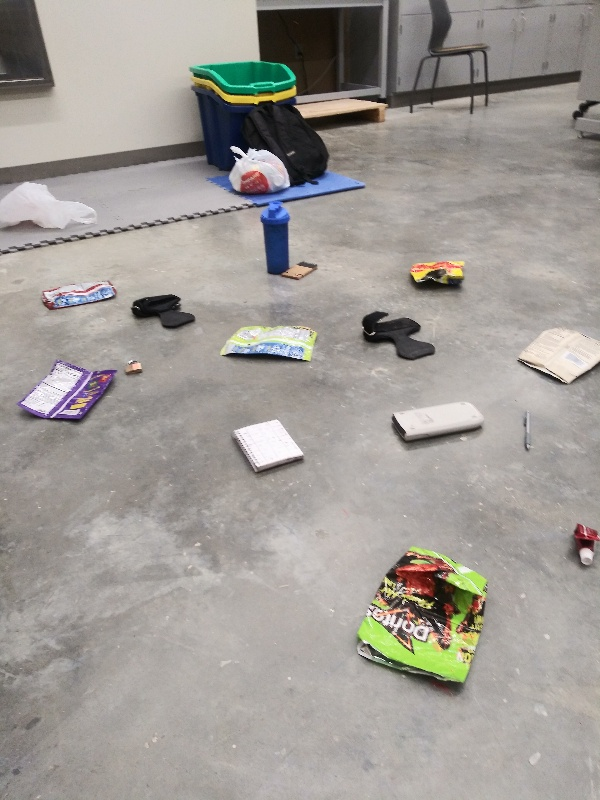bag: (358, 541, 499, 694), (20, 354, 120, 434), (513, 323, 600, 392), (215, 323, 324, 369), (35, 276, 122, 314), (402, 257, 473, 293)
